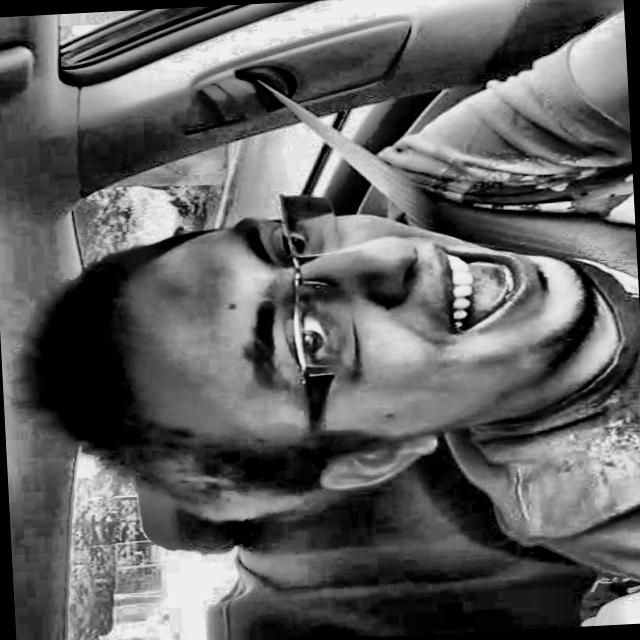open_eyes: (278, 307, 344, 382), (265, 207, 322, 267)
open_mouth: (422, 228, 550, 347)
